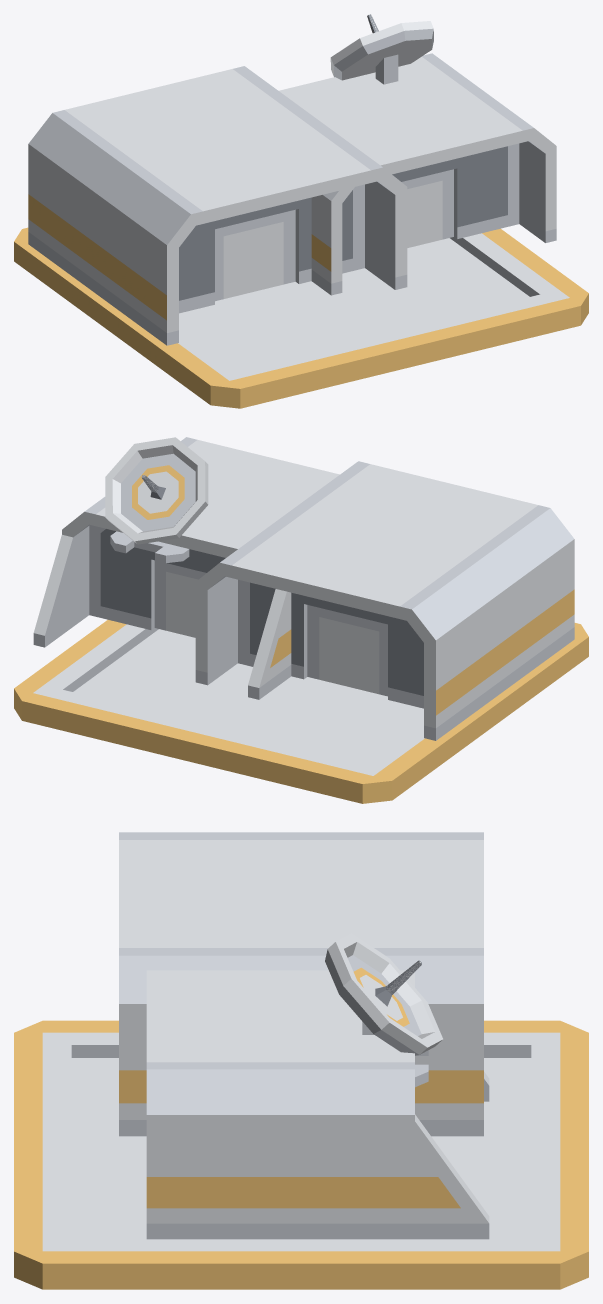
The model's file is building_command_hub.glb.
3 renders of one model, top to bottom at view 1: azimuth 30°, elevation 25°; view 2: azimuth 150°, elevation 25°; view 3: azimuth 270°, elevation 25°, orthographic. The views are drawn at different scales.
Visible parts, largest first — view 1: hangar_smallA, platform_large, hangar_smallB, gate.003, gate.004, satelliteDish; view 2: hangar_smallA, platform_large, hangar_smallB, gate.002, satelliteDish, gate.005; view 3: platform_large, hangar_smallB, hangar_smallA, satelliteDish.
Part boxes in pixels (x1,y1,x2,y2): hangar_smallA: (28, 66, 407, 345); platform_large: (14, 227, 588, 408); hangar_smallB: (279, 53, 556, 295); gate.003: (179, 184, 364, 313); gate.004: (392, 143, 519, 247); satelliteDish: (330, 14, 433, 84); hangar_smallA: (195, 461, 574, 740); platform_large: (14, 620, 588, 803); hangar_smallB: (33, 437, 339, 699); gate.002: (238, 579, 423, 708); satelliteDish: (105, 437, 208, 563); gate.005: (89, 525, 225, 637); platform_large: (14, 1020, 588, 1289); hangar_smallB: (146, 970, 489, 1239); hangar_smallA: (119, 832, 483, 1136); satelliteDish: (325, 933, 442, 1087).
Bounding box in the file's own units: 5.08 × 2.75 × 4.8.
